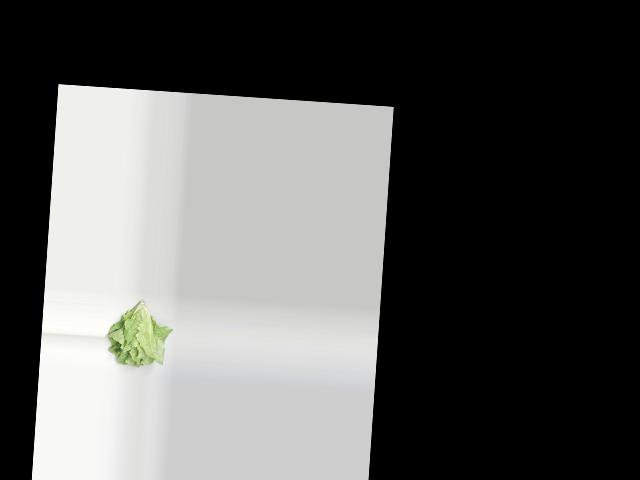lettuce: (105, 296, 174, 369)
